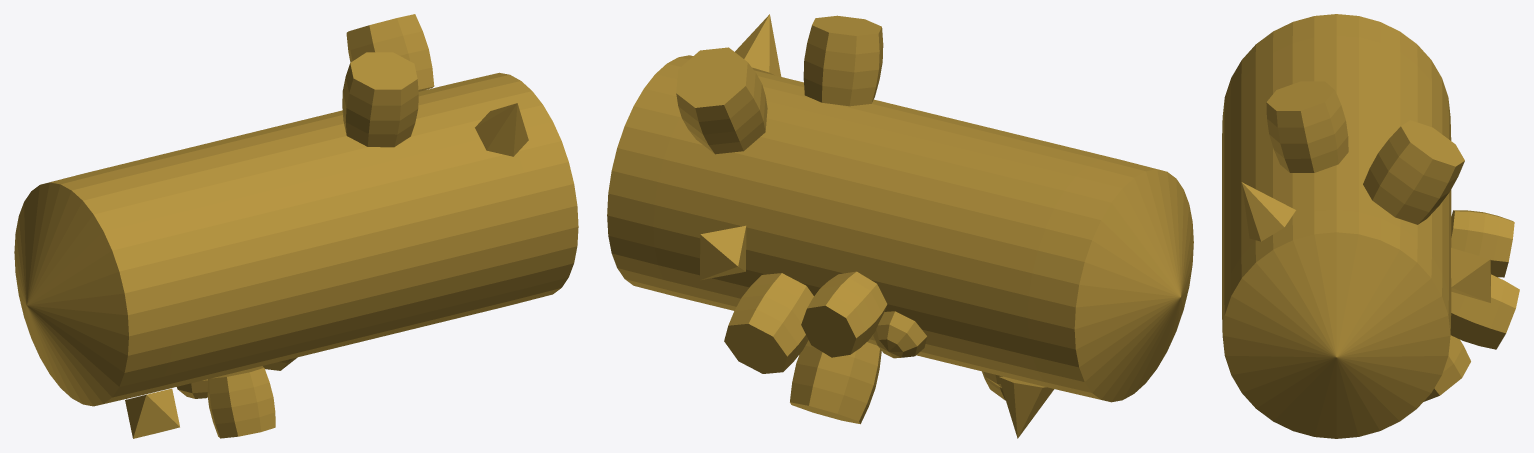
The model's file is exp1_ovoid_cylinder_asym_04.glb.
3 views of the same model, side by side, from view 1: azimuth 30°, elevation 25°; view 2: azimuth 150°, elevation 25°; view 3: azimuth 270°, elevation 25° (orthographic). The views are drawn at different scales.
Visible parts, largest first — view 1: exp1_ovoid_cylinder_asym_04; view 2: exp1_ovoid_cylinder_asym_04; view 3: exp1_ovoid_cylinder_asym_04.
Boxes of the visible parts, <box> form: exp1_ovoid_cylinder_asym_04: <box>14,14,578,438</box>; exp1_ovoid_cylinder_asym_04: <box>607,14,1193,438</box>; exp1_ovoid_cylinder_asym_04: <box>1222,14,1519,438</box>.
Bounding box in the file's own units: 3.52 × 2.08 × 1.69.
